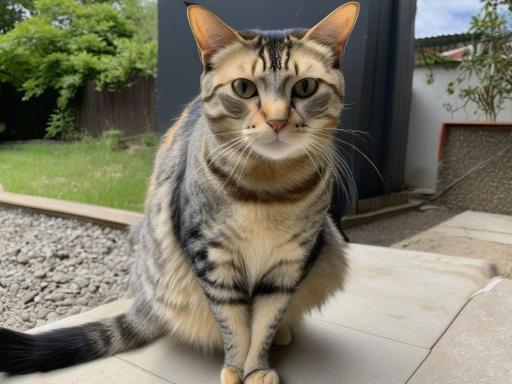cat_sitting: (0, 2, 359, 384)
